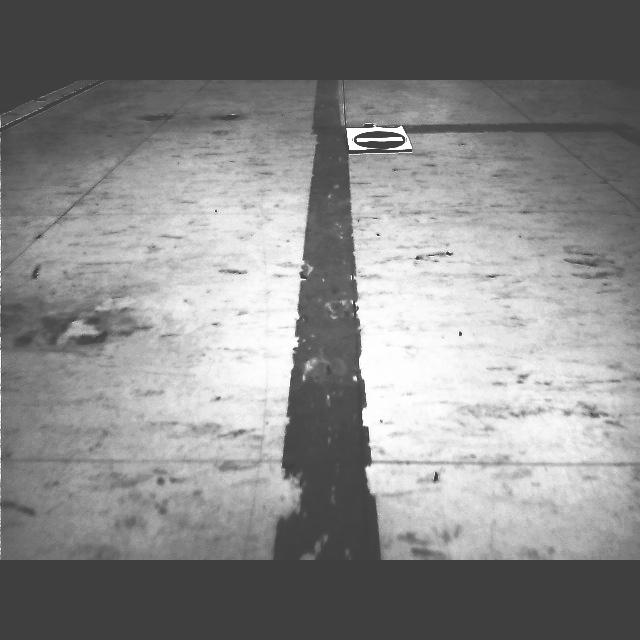NO ENTRY: (354, 131, 405, 148)
